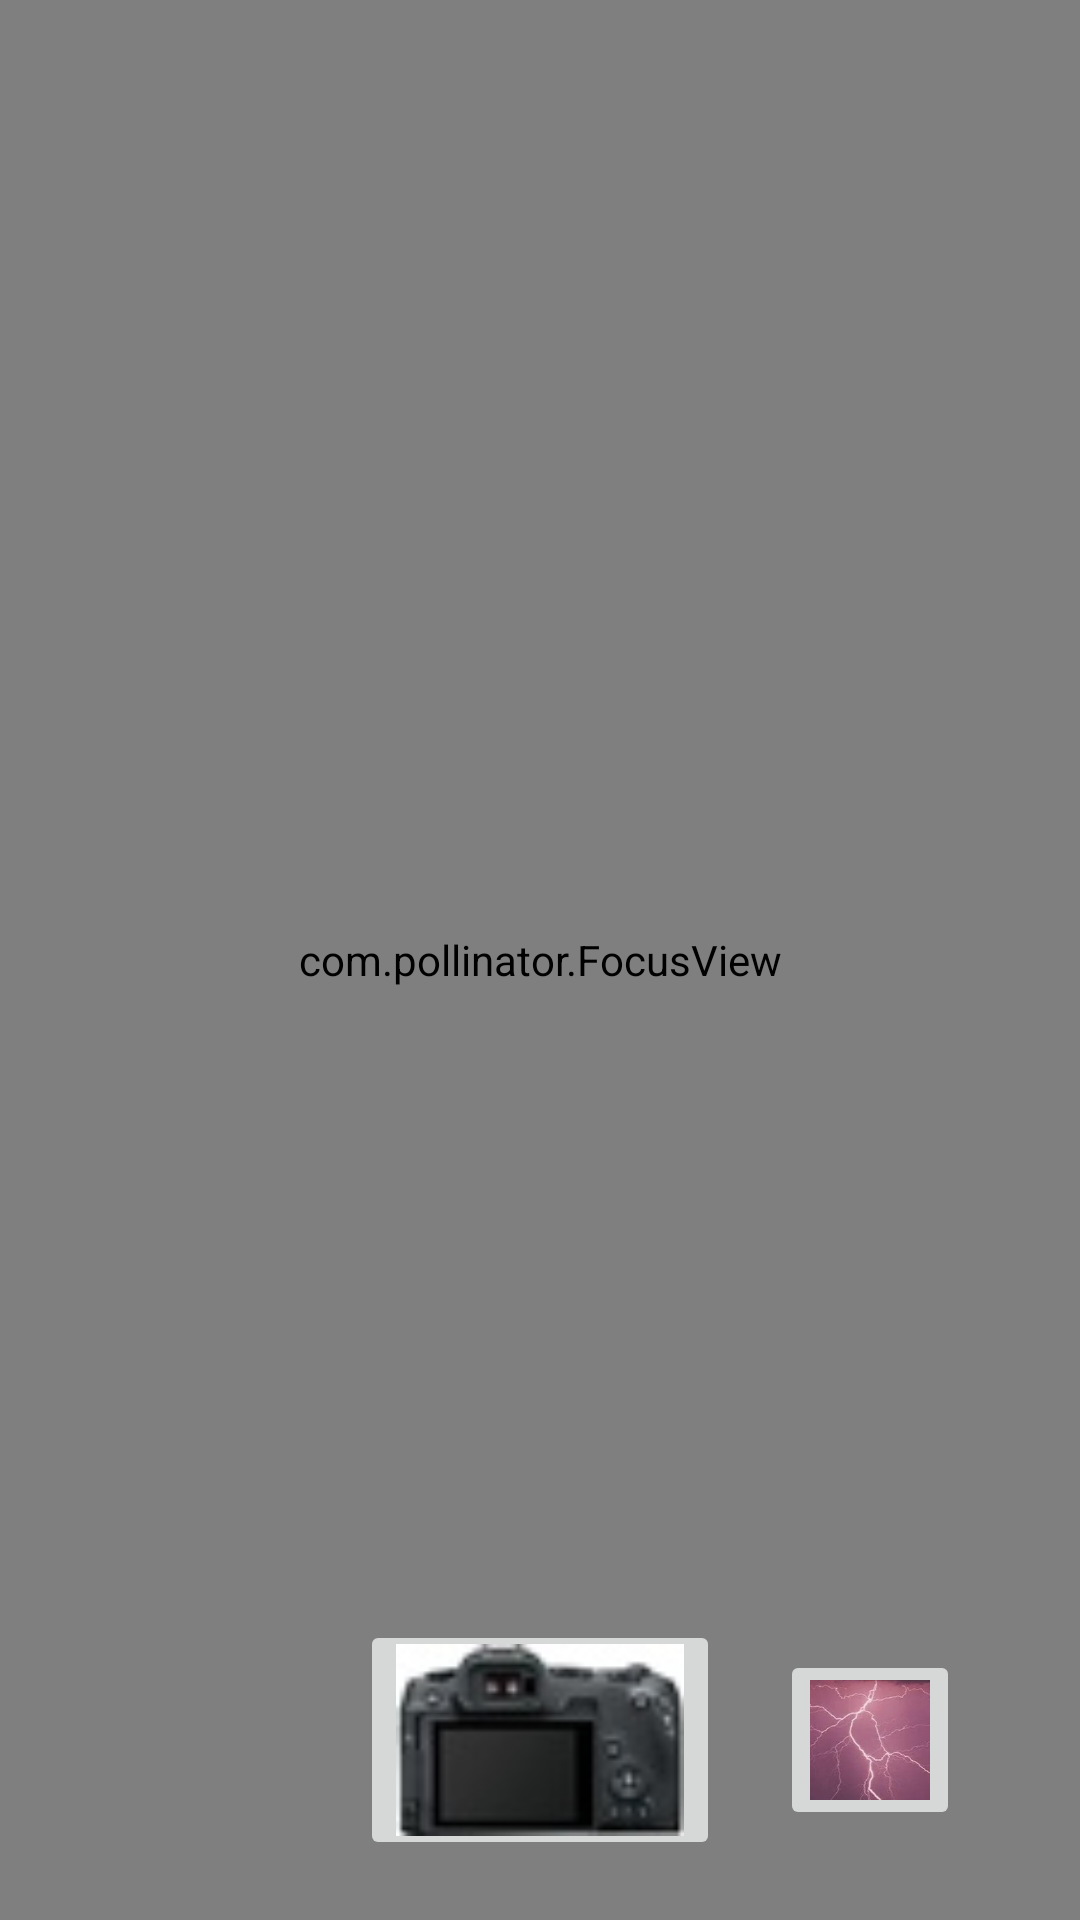

Icon bounding boxes for this 1080*1920 phone screenshot, format (x1, y1, x2, y2):
Take Photo: (372, 1638, 708, 1842)
Torch: (792, 1668, 948, 1812)
